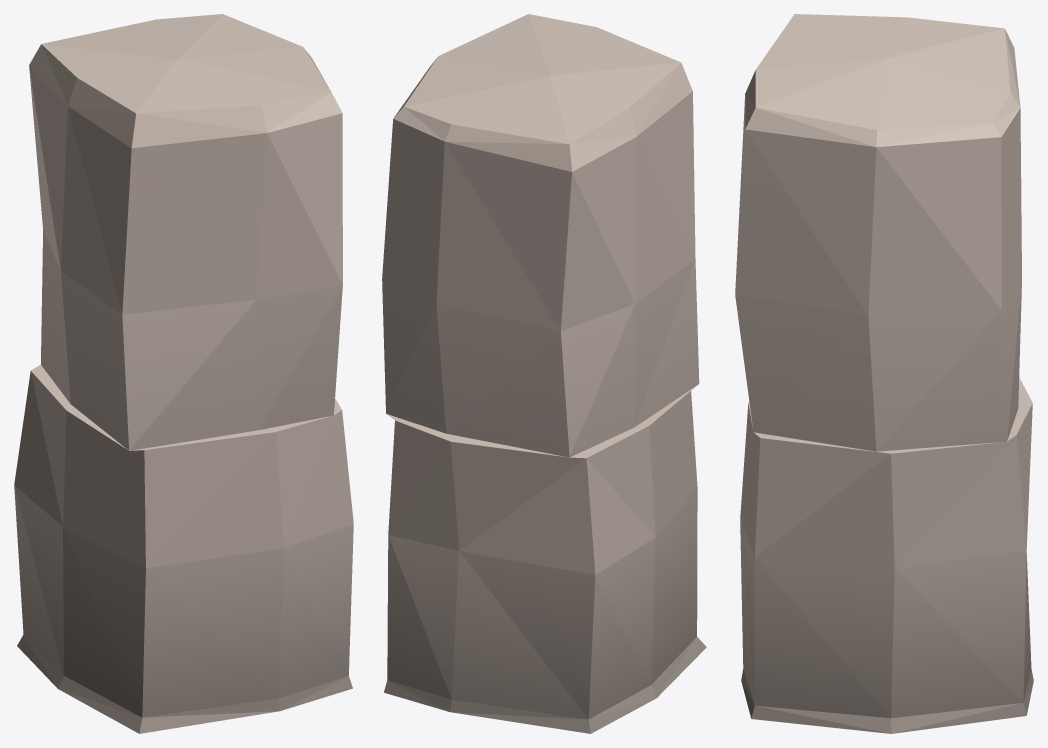
The model's file is RockZ_City_Pillar_C.fbx.
3 views of the same model, side by side, from view 1: azimuth 30°, elevation 25°; view 2: azimuth 150°, elevation 25°; view 3: azimuth 270°, elevation 25° (orthographic). The views are drawn at different scales.
Parts seen in each view (by area): view 1: RockZ_City_Pillar_C; view 2: RockZ_City_Pillar_C; view 3: RockZ_City_Pillar_C.
Boxes of the visible parts, x1,y1,x2,y2 form: RockZ_City_Pillar_C: (14,14,353,733); RockZ_City_Pillar_C: (382,14,706,733); RockZ_City_Pillar_C: (735,14,1033,733).
Size of the model in its own units: 2.62 by 6.01 by 2.67.
